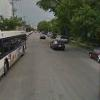Bus: (1, 24, 29, 77)
